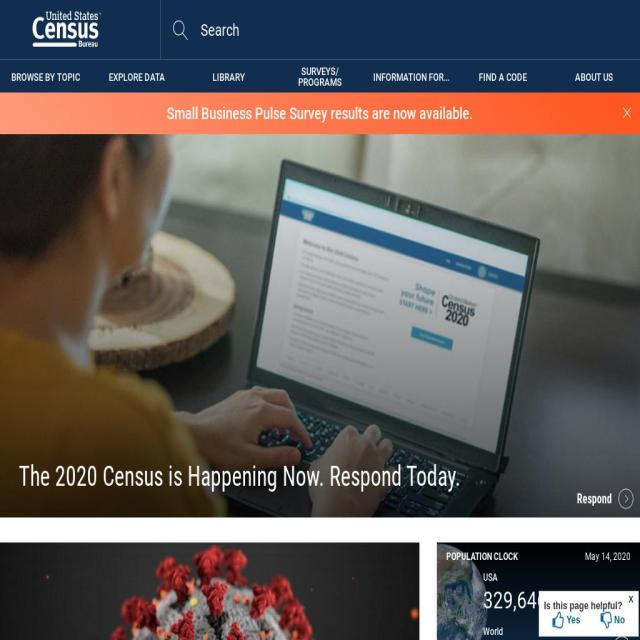button: (0, 134, 640, 518), (0, 542, 420, 640), (32, 11, 102, 49), (5, 62, 87, 92), (96, 62, 178, 92), (188, 62, 270, 92), (279, 62, 361, 92), (370, 62, 452, 92), (462, 62, 544, 92), (553, 62, 635, 92), (628, 595, 638, 605)
field: (200, 0, 640, 60)
heading: (19, 459, 565, 493)
iframe: (437, 542, 640, 640)
image: (32, 11, 102, 47), (618, 488, 634, 509), (552, 612, 564, 628), (600, 612, 612, 628)
text: (19, 95, 621, 132), (5, 62, 87, 92), (96, 62, 178, 92), (188, 62, 270, 92), (279, 62, 361, 92), (370, 62, 452, 92), (462, 62, 544, 92), (553, 62, 635, 92), (538, 599, 622, 612), (577, 492, 612, 506), (566, 613, 582, 627), (614, 613, 625, 627)
